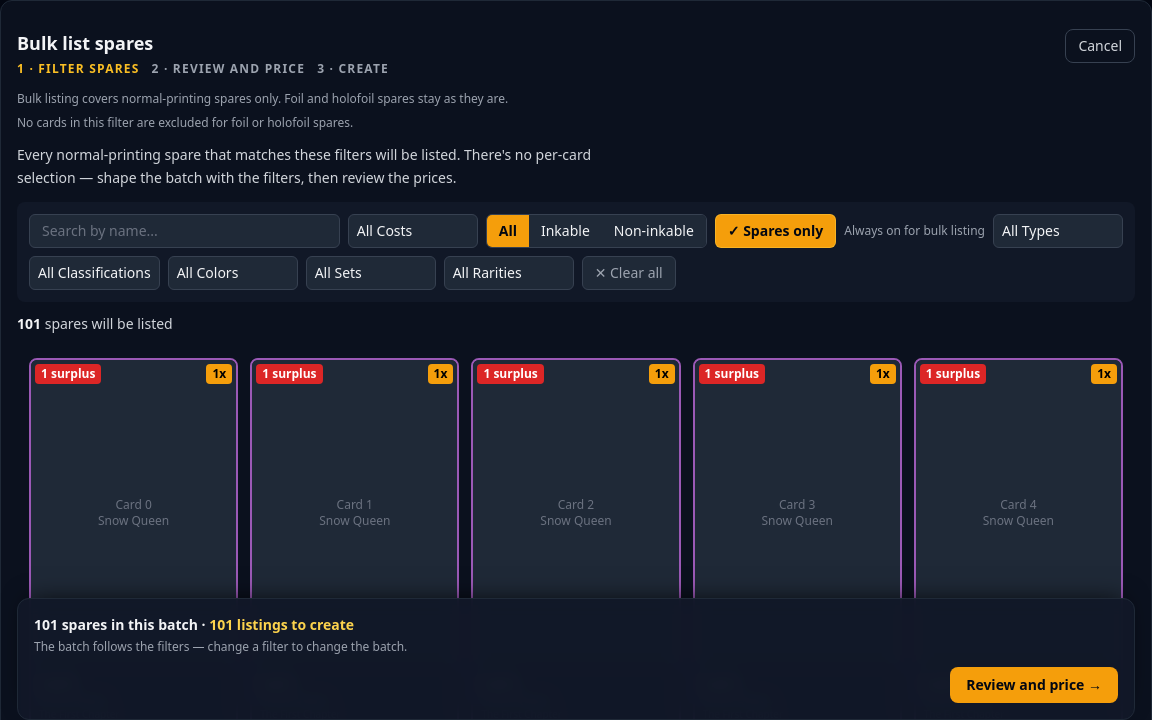
Test: BulkListingSection — step 1 (choose cards) › allows a batch over 100 listings and enables confirm (no cap)
Check: the element with test id "bulk-match-count" reads "101 spares will be listed", box [17, 314, 173, 332]
Check: the element with test id "bulk-selection-count" reads "101 spares in this batch · 101 listings to create", box [34, 615, 354, 634]
Click the button "Review and price →".
click(1034, 685)  # box [950, 667, 1118, 703]
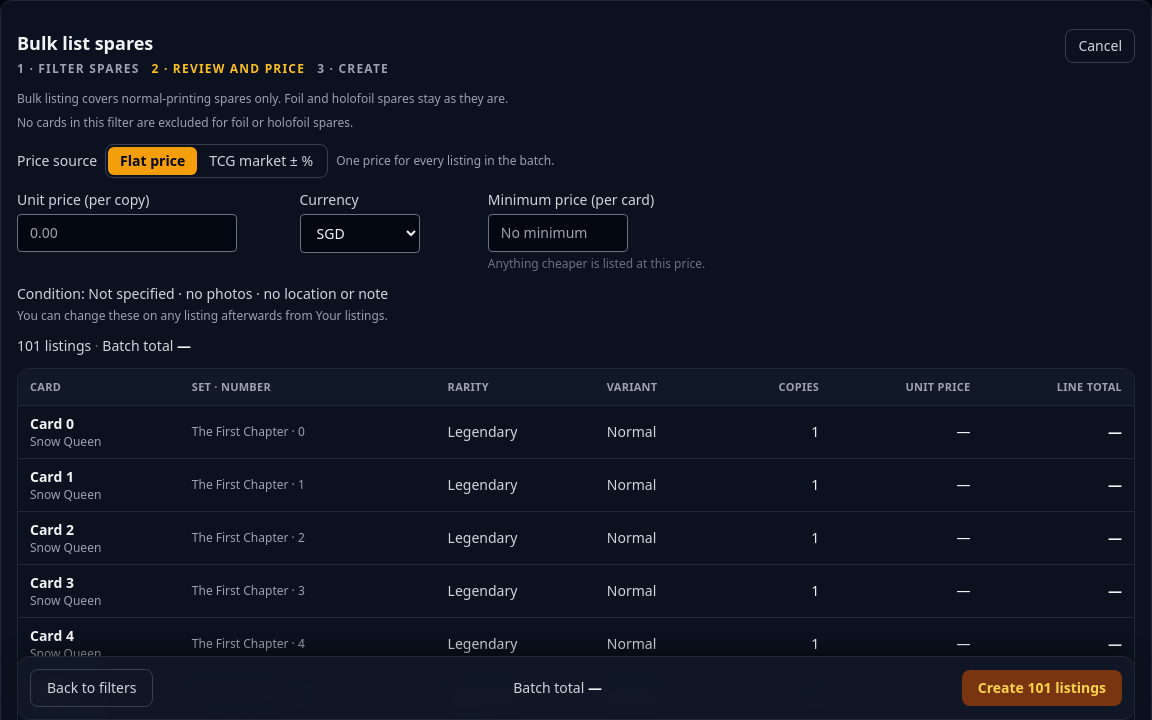
Check: the button "Create 101 listings" is disabled, box [962, 670, 1122, 706]
Type "0.75" into the field labelled "Unit price (per copy)".
click(127, 233); type("0.75")  # box [17, 214, 237, 252]
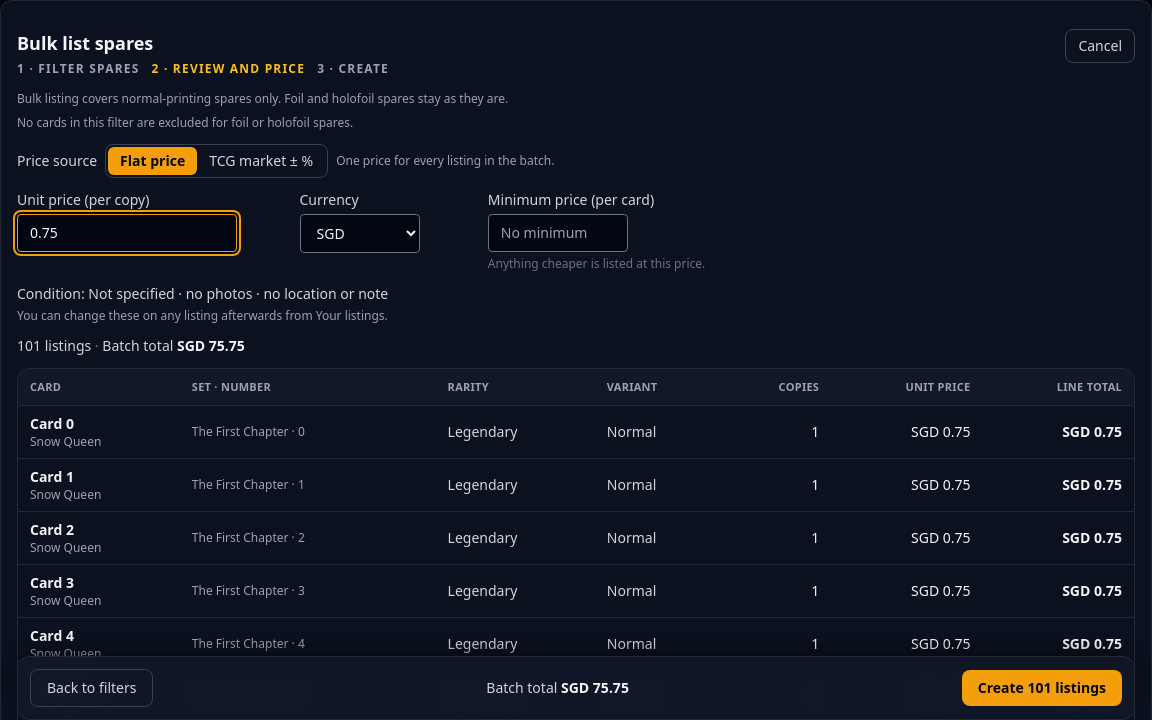
Check: the button "Create 101 listings" is enabled, box [962, 670, 1122, 706]
